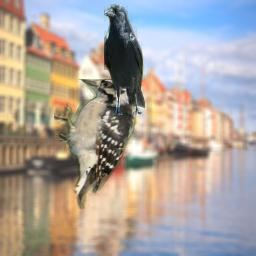Crow: (104, 4, 145, 115)
Woodpecker: (54, 79, 140, 209)
